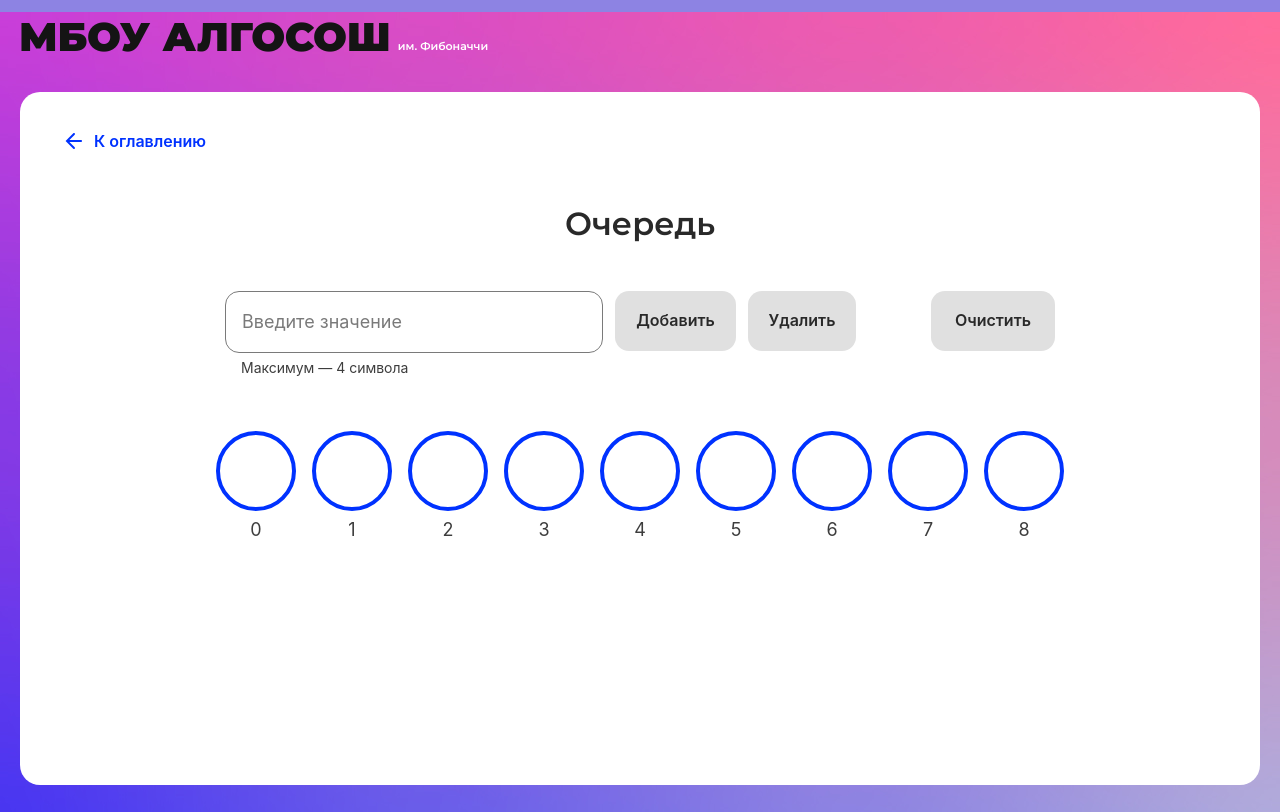
Test: Queue tests › Add element
Type "one" into the field with test id "input" at (414, 322), box left=225, top=291, right=603, bottom=353
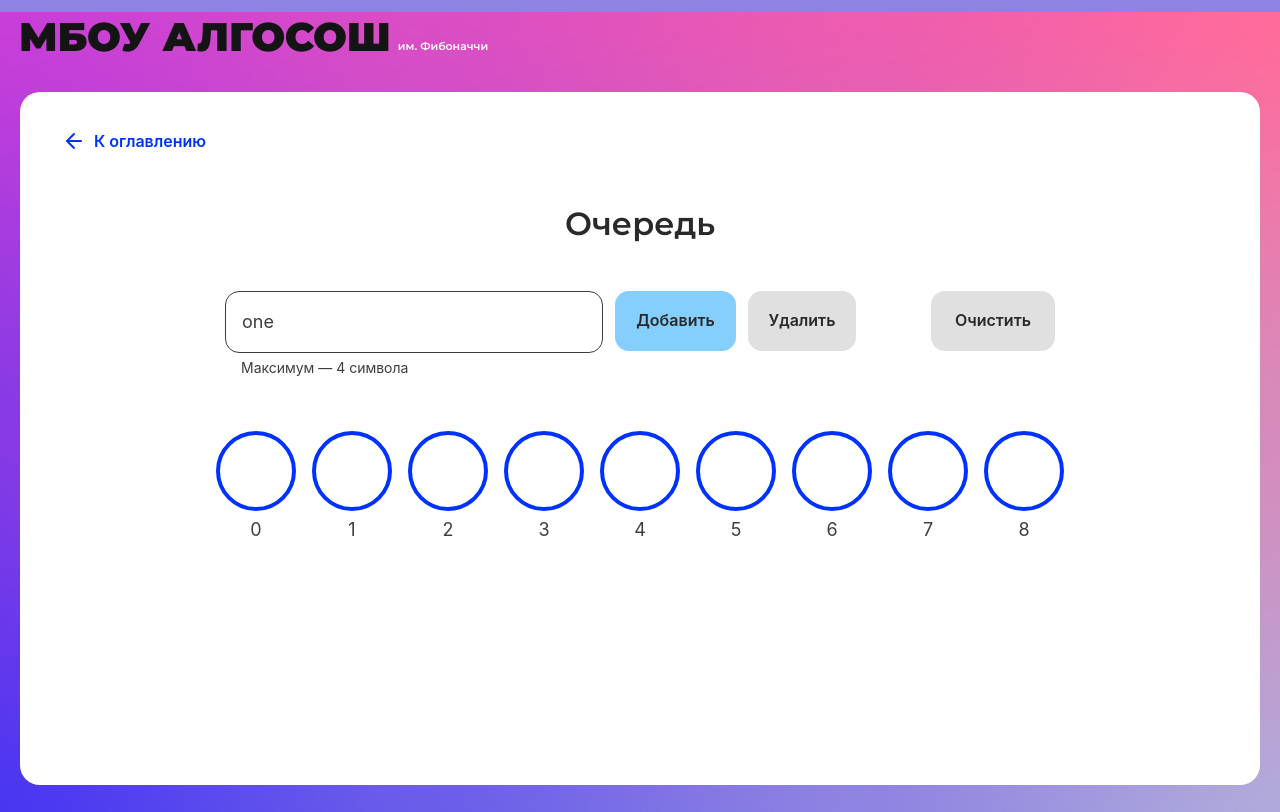
Click the button with test id "add" at (676, 321), box left=615, top=291, right=736, bottom=351
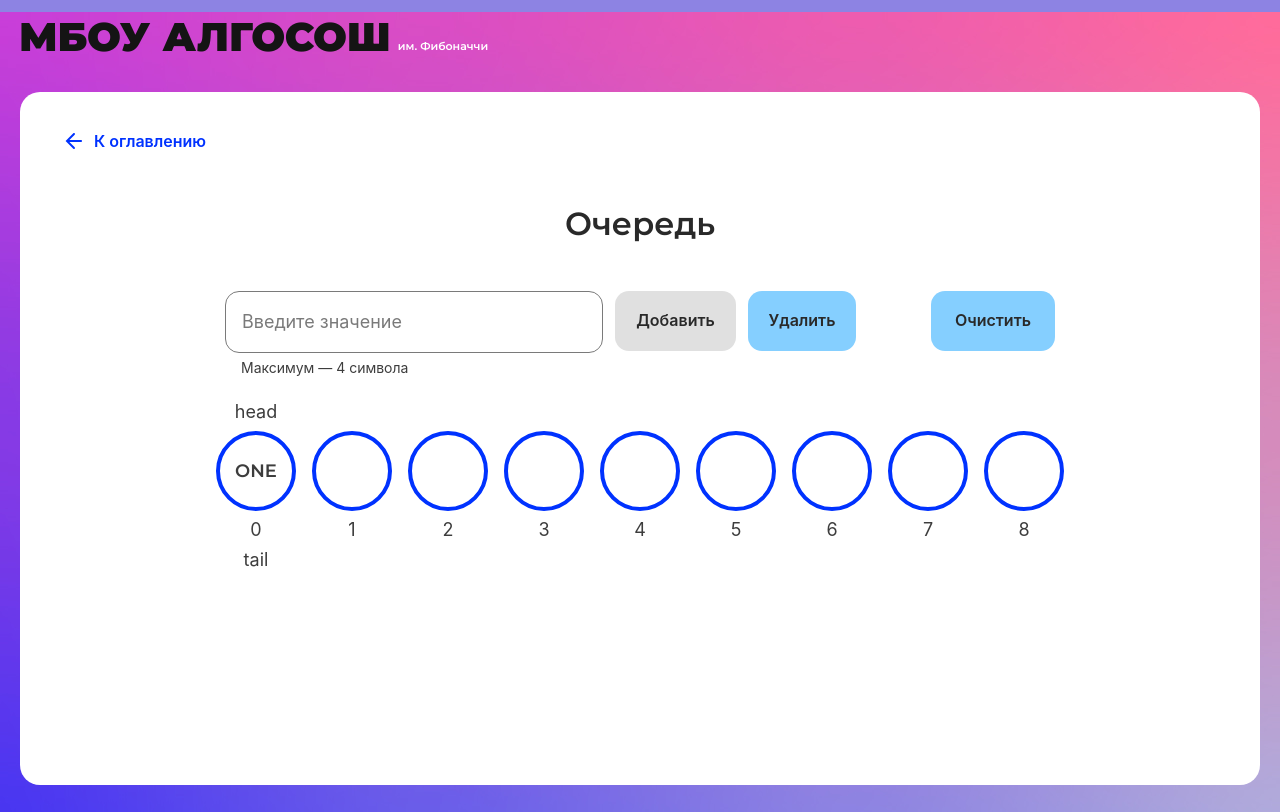
Now the button with test id "add" is disabled, box left=615, top=291, right=736, bottom=351
Type "two" into the field with test id "input" at (414, 322), box left=225, top=291, right=603, bottom=353
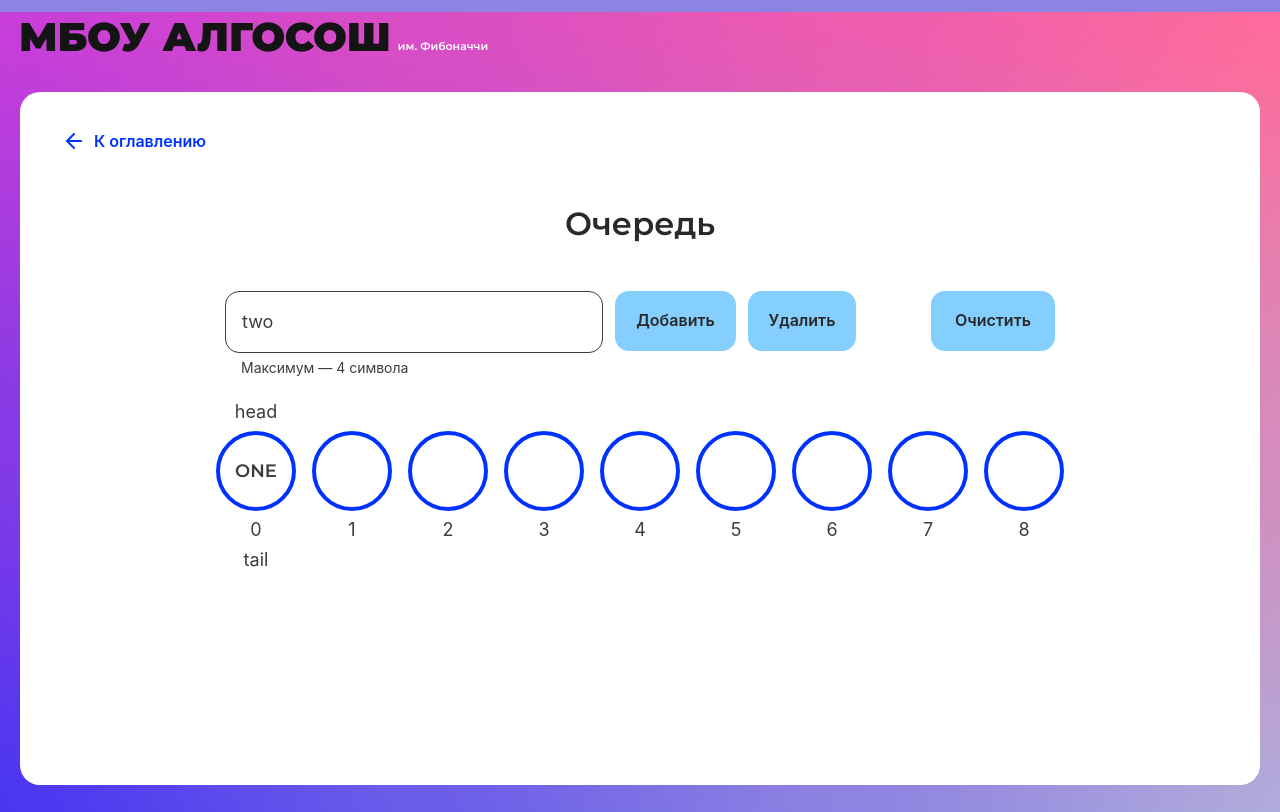
Click the button with test id "add" at (676, 321), box left=615, top=291, right=736, bottom=351
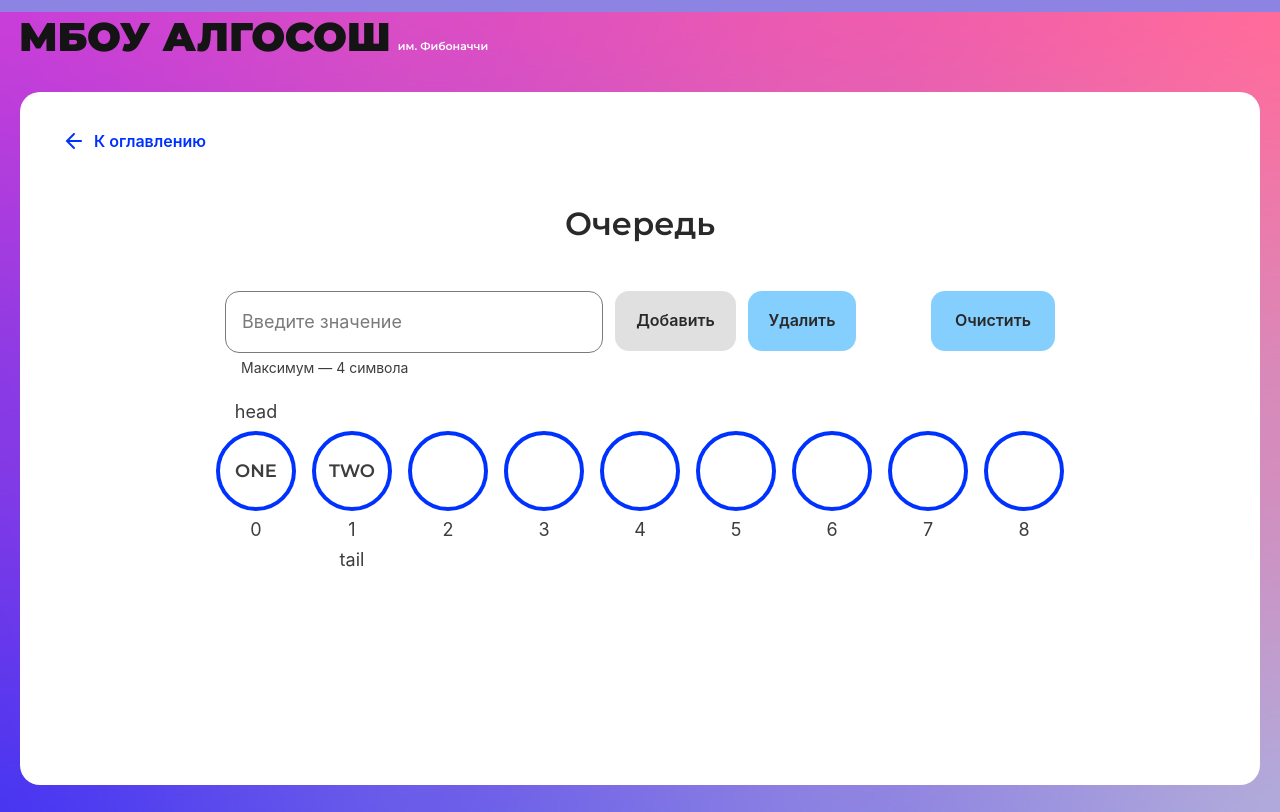
Now the button with test id "add" is disabled, box left=615, top=291, right=736, bottom=351
